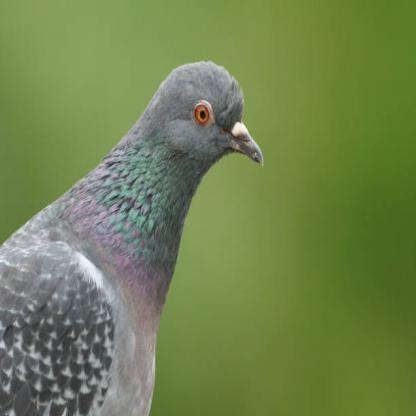Rock Pigeon: (5, 60, 273, 401)
